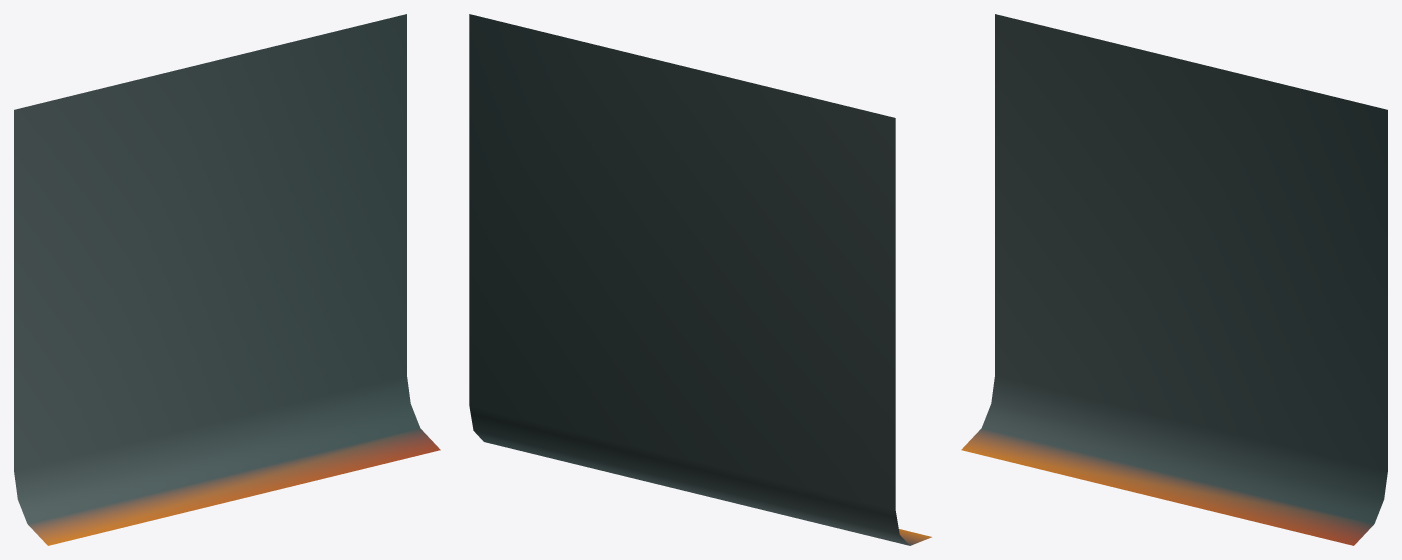
Rendered from Base_RoadWallSide.fbx.
3 views of the same model, side by side, from view 1: azimuth 30°, elevation 25°; view 2: azimuth 150°, elevation 25°; view 3: azimuth 330°, elevation 25° (orthographic). The views are drawn at different scales.
Parts seen in each view (by area): view 1: Base_RoadWallSide; view 2: Base_RoadWallSide; view 3: Base_RoadWallSide.
Part boxes in pixels (x1=…): Base_RoadWallSide: x1=14, y1=14, x2=440, y2=545; Base_RoadWallSide: x1=469, y1=14, x2=931, y2=545; Base_RoadWallSide: x1=961, y1=14, x2=1387, y2=545.
Bounding box in the file's own units: 2000 × 2000 × 300.
